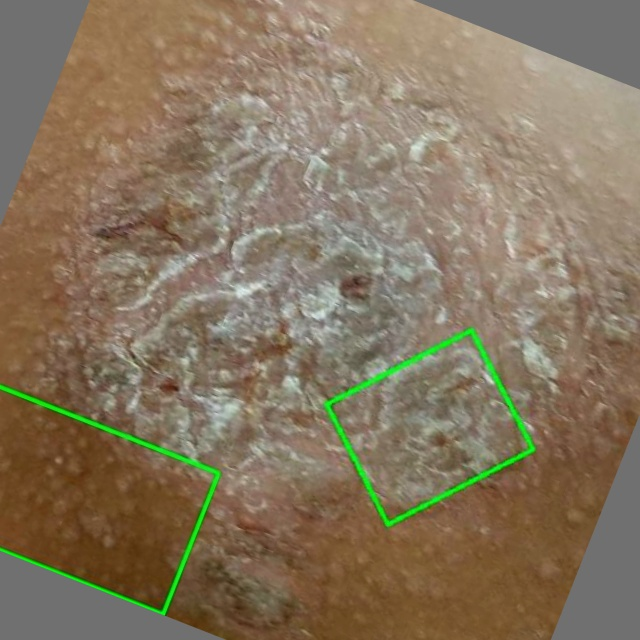Contact Dermatitis: (0, 387, 218, 614), (325, 330, 532, 524)
